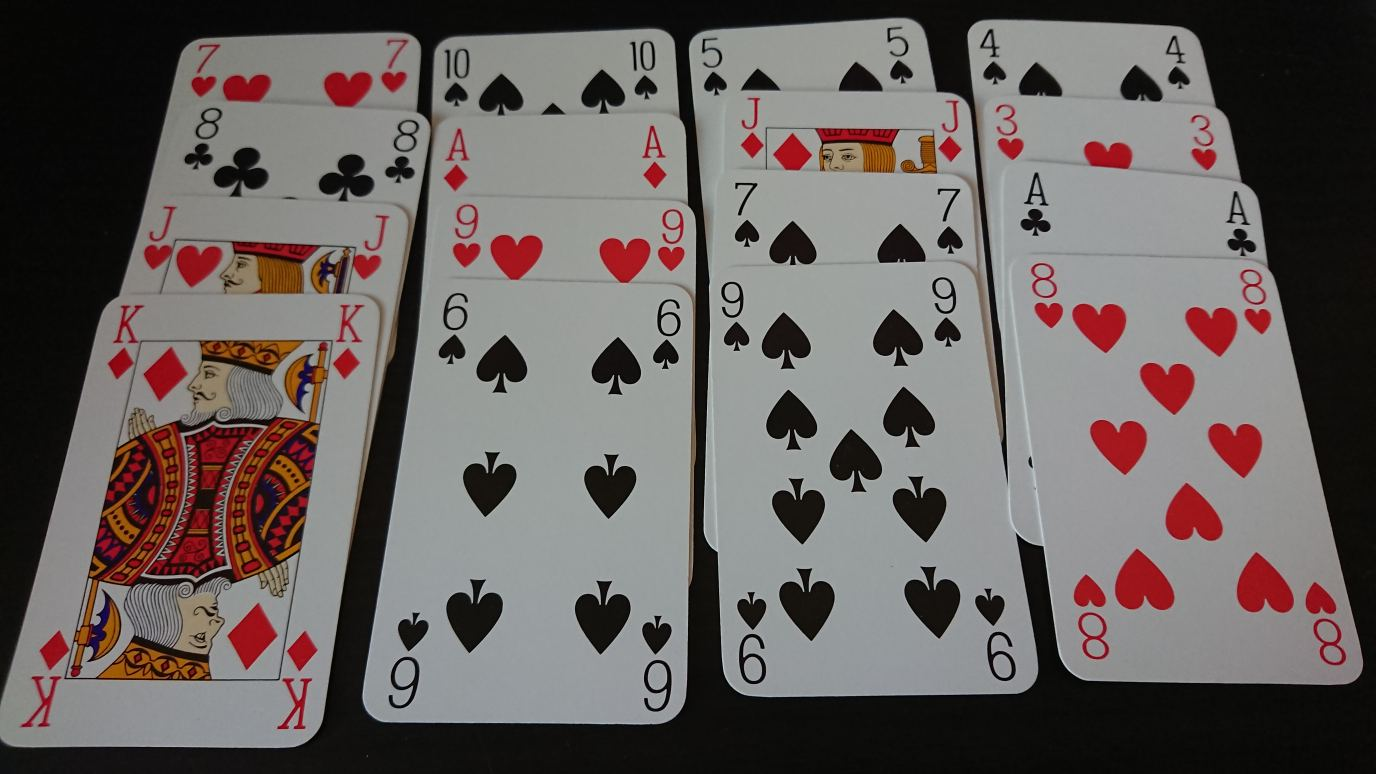10S: (624, 36, 662, 105), (439, 43, 473, 112)
3H: (988, 100, 1028, 162), (1182, 111, 1221, 174)
4S: (975, 24, 1010, 89), (1159, 30, 1194, 92)
5S: (881, 22, 918, 86), (696, 34, 731, 100)
6S: (648, 294, 687, 375), (432, 287, 470, 370)
7H: (378, 34, 414, 99), (185, 40, 222, 101)
7S: (929, 180, 969, 258), (726, 176, 763, 253)
8C: (381, 116, 425, 189), (181, 105, 226, 175)
8H: (1234, 265, 1279, 337), (1025, 260, 1066, 331)
9H: (652, 203, 689, 277), (448, 200, 484, 272)
9S: (715, 275, 756, 356), (924, 273, 965, 350)
AC: (1222, 185, 1260, 261), (1016, 168, 1055, 240)
AD: (438, 123, 474, 194), (638, 122, 670, 192)
JD: (732, 94, 769, 161), (931, 96, 966, 166)
JH: (350, 209, 393, 285), (138, 201, 179, 276)
KD: (104, 300, 147, 384), (328, 299, 369, 383)
